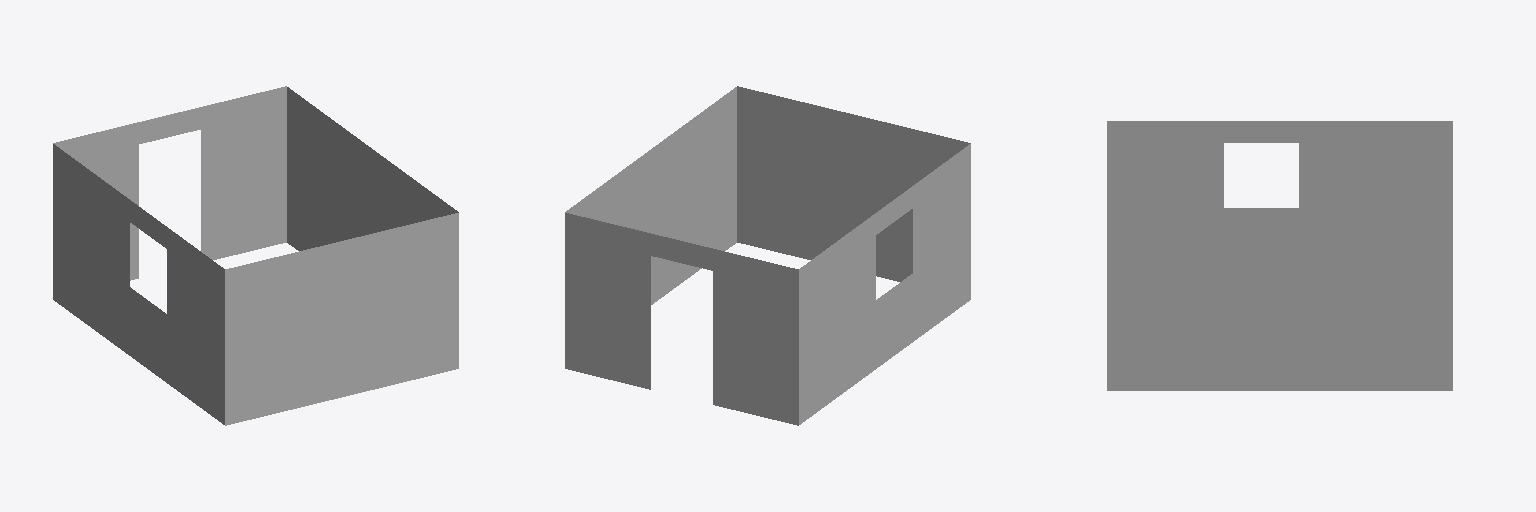
The model's file is onlywalls.obj.
3 renders of one model, left to right at view 1: azimuth 30°, elevation 25°; view 2: azimuth 150°, elevation 25°; view 3: azimuth 270°, elevation 25°, orthographic.
Visible parts, largest first — view 1: room_Cube.001; view 2: room_Cube.001; view 3: room_Cube.001.
Boxes of the visible parts, x1,y1,x2,y2 form: room_Cube.001: [53, 86, 458, 425]; room_Cube.001: [565, 86, 970, 425]; room_Cube.001: [1107, 121, 1452, 390].
Bounding box in the file's own units: 3.6 × 2.3 × 4.6.